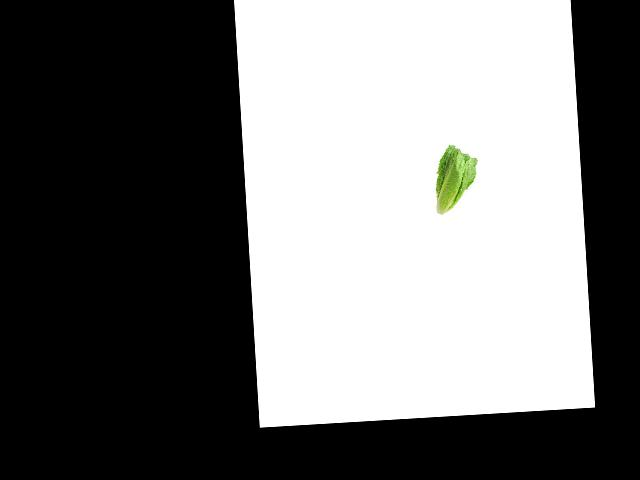lettuce: (431, 143, 481, 221)
